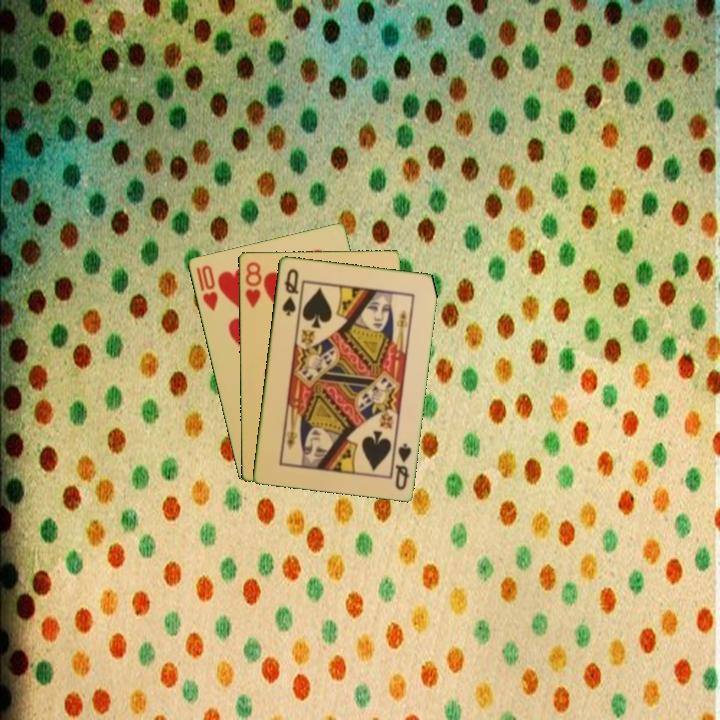10h: (192, 261, 221, 314)
8h: (242, 258, 264, 310)
Qs: (388, 437, 414, 492), (278, 265, 301, 318)
